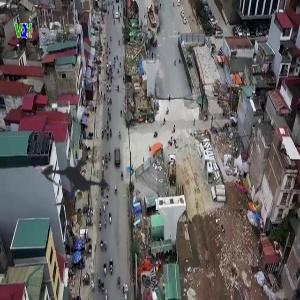drone: (10, 114, 145, 249)
